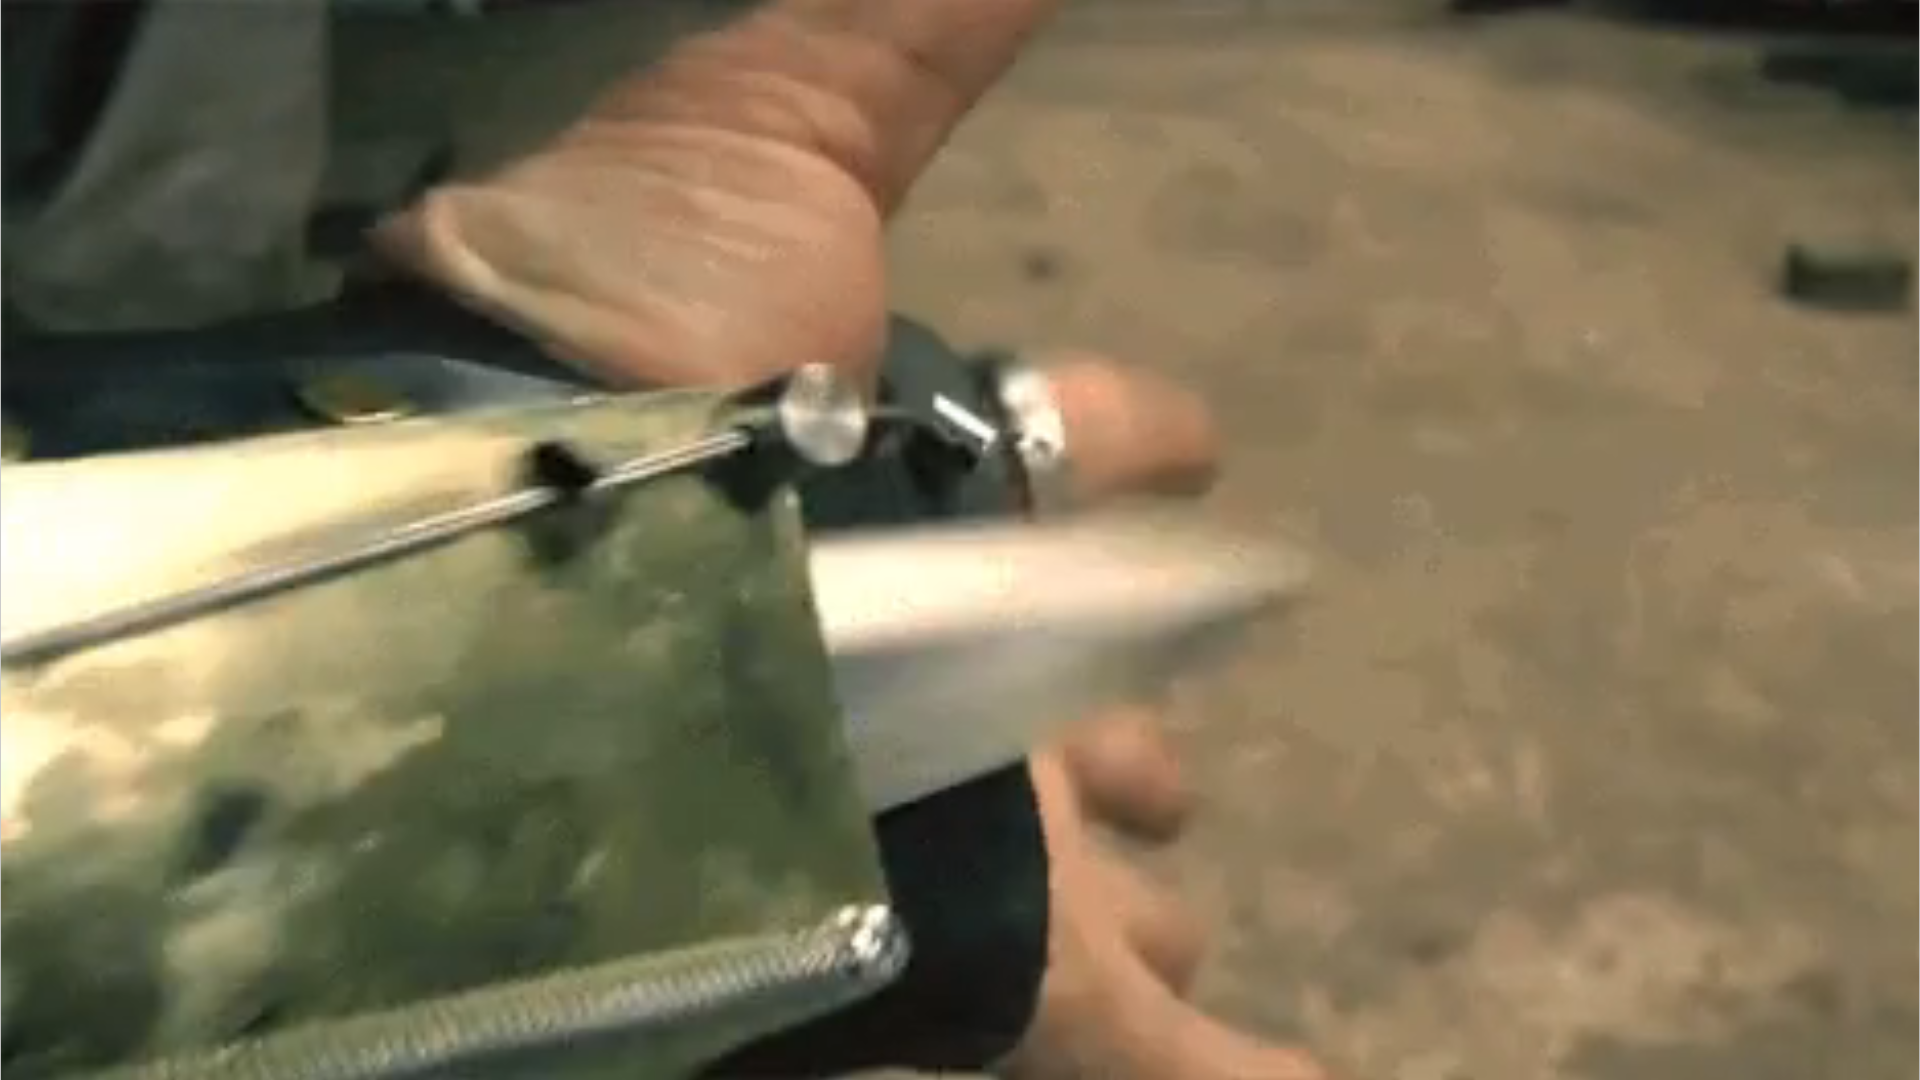cortante: (791, 516, 1317, 818)
